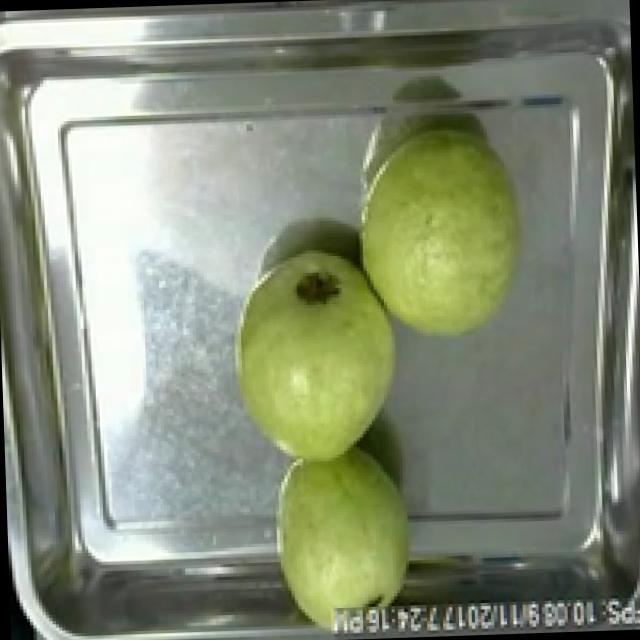Fruit: (342, 121, 536, 351), (221, 237, 411, 470), (260, 442, 424, 636)
